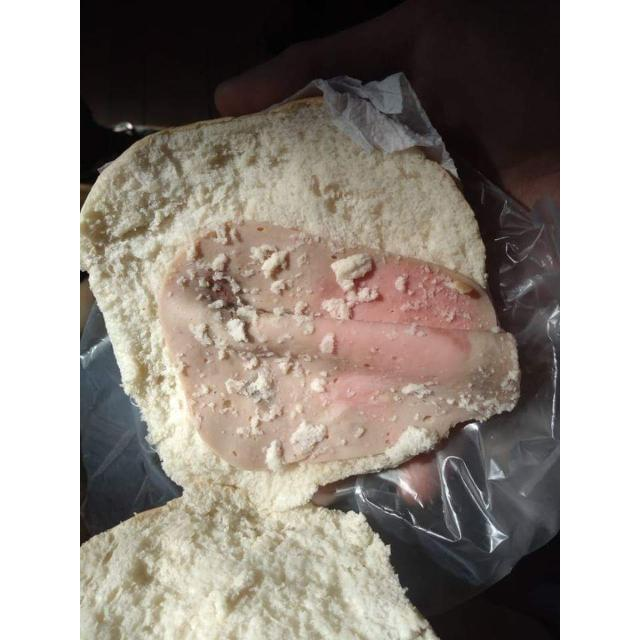organic: (80, 73, 521, 640)
